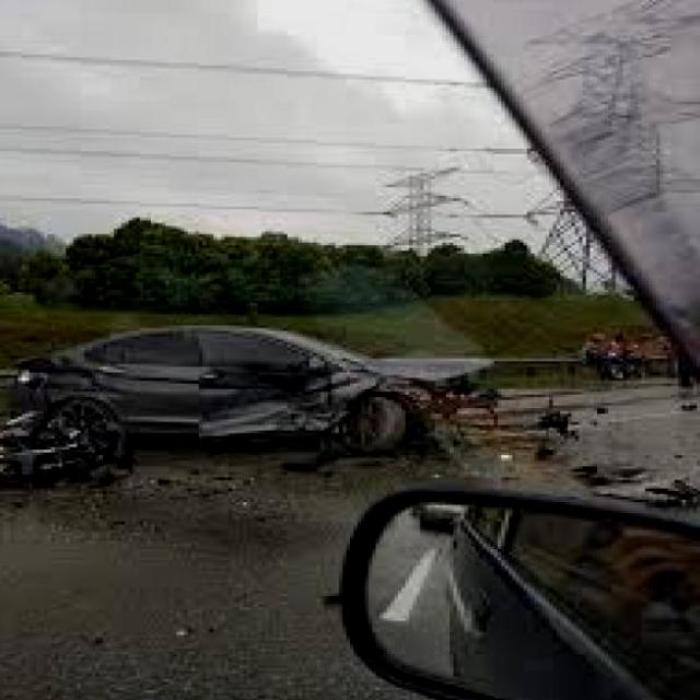Accident: (0, 283, 610, 494)
